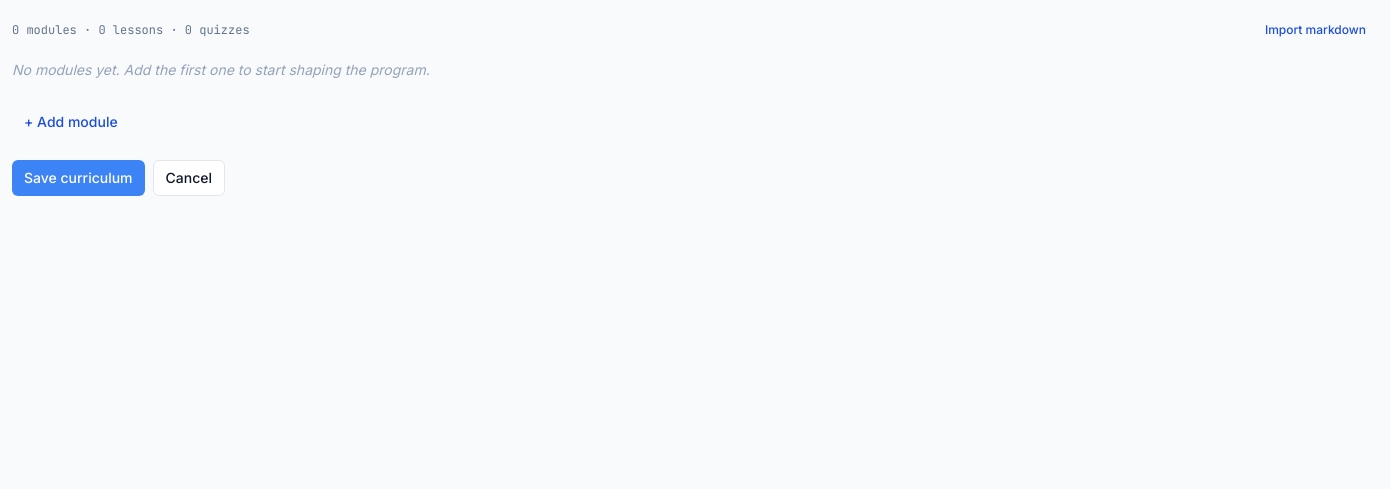
Test case: CourseCurriculumEditor (markdown import) › import with no parseable modules shows an inline error
Step 1. Click the button with test id "editor-import-toggle" → (1315, 30), box [1253,12,1378,48]
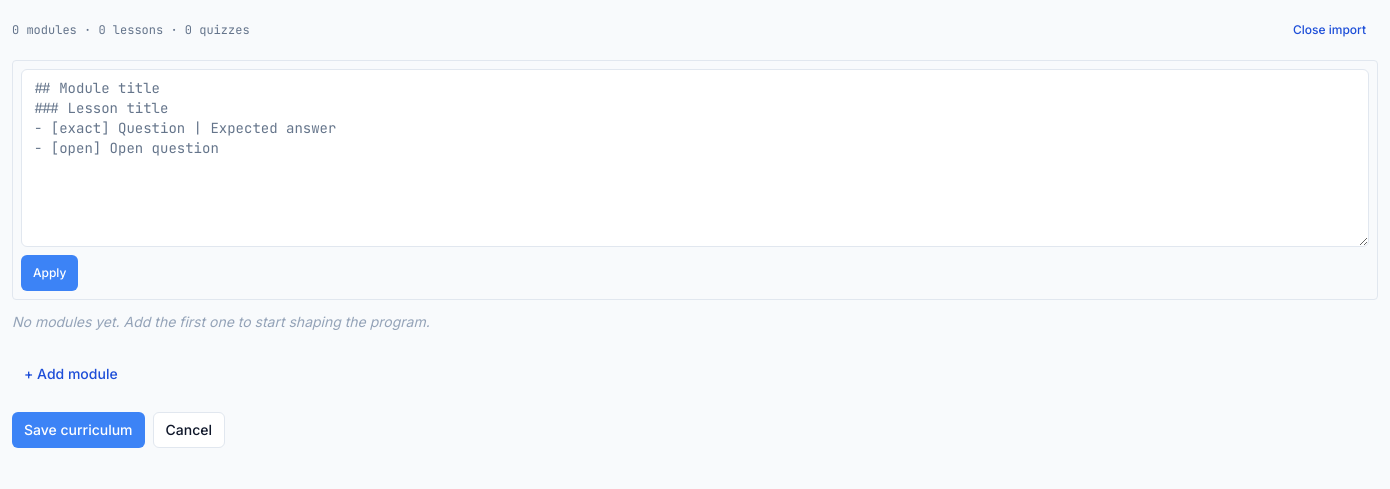
Step 2. Replace the text in the text box with test id "editor-import-textarea" with "just some prose, no modules" → (695, 158), box [21,69,1369,247]
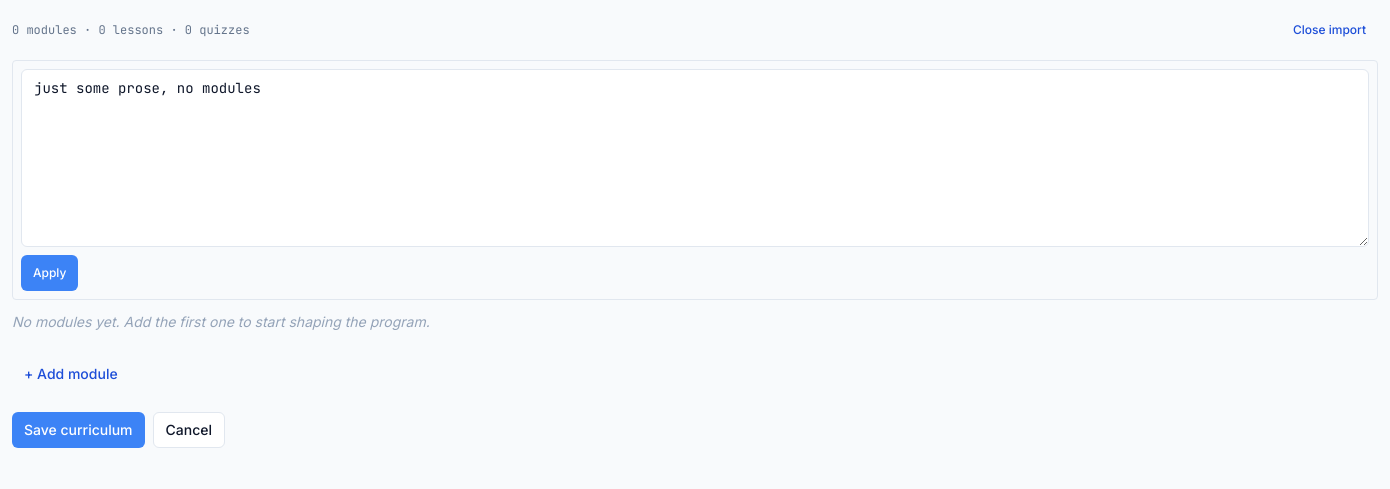
Step 3. Click the button with test id "editor-import-apply" → (50, 273), box [21,255,78,291]
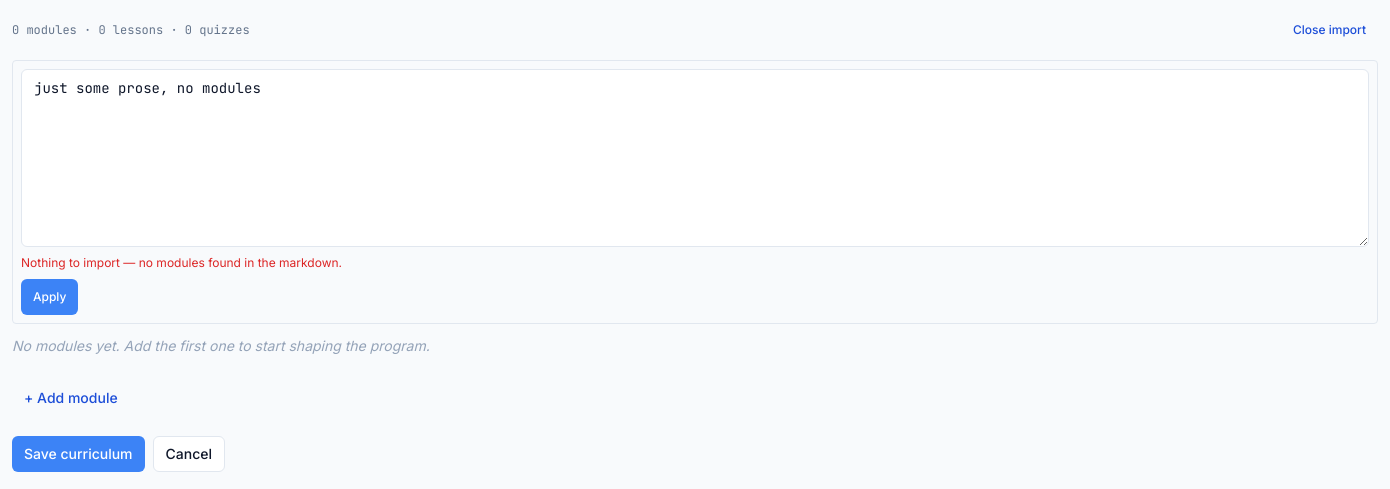
Expected: the text "Nothing to import — no modules found in the markdown." is shown, [21,255,342,270]
